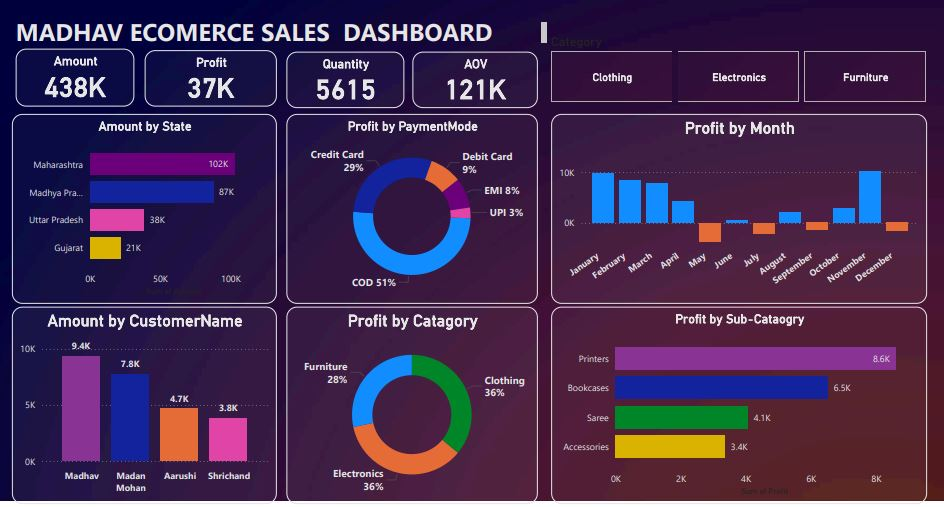

The dashboard page shown, as its layout file describes it:
{"tool":"powerbi","page":{"name":"Page 1","canvas":[1280,720],"ordinal":0},"visuals":[{"type":"columnChart","title":"Profit by Month","fields":{"Category":["Orders.Order Date.Variation.Date Hierarchy.Month"],"Y":["Details.Profit"]},"box":[739.1,195.5,500.6,253.6],"z":0},{"type":"donutChart","title":"Profit by Catagory","fields":{"Category":["Details.Category"],"Y":["Details.Profit"]},"box":[386.4,452.7,334.3,263.7],"z":1000},{"type":"donutChart","title":"Profit by PaymentMode","fields":{"Category":["Details.PaymentMode"],"Y":["Details.Profit"]},"box":[386.4,195.5,334.3,253.6],"z":2000},{"type":"clusteredBarChart","title":"Profit by Sub-Cataogry","fields":{"Category":["Details.Sub-Category"],"Y":["Details.Profit"]},"box":[739.1,452.7,500.6,263.7],"z":3000},{"type":"lineStackedColumnComboChart","title":"Amount by CustomerName","fields":{"Category":["Orders.CustomerName"],"Y":["Details.Amount"]},"box":[20.2,452.7,352.8,263.7],"z":4000},{"type":"clusteredBarChart","title":"Amount by State","fields":{"Category":["Orders.State"],"Y":["Details.Amount"]},"box":[20.2,195.5,352.8,253.6],"z":5000},{"type":"textbox","box":[20.2,63.8,445.1,48.7],"z":6000},{"type":"advancedSlicerVisual","fields":{"Values":["Details.Category"]},"box":[739.1,89,500.6,97.4],"z":7000},{"type":"card","title":"Amount","fields":{"Values":["Details.Amount"]},"box":[25.2,109.2,157.9,77.3],"z":8000},{"type":"card","title":"Profit","fields":{"Values":["Details.Profit"]},"box":[196.5,110.9,176.4,75.6],"z":9000},{"type":"card","title":"Quantity","fields":{"Values":["Details.Quantity"]},"box":[386.4,112.5,156.2,75.6],"z":10000},{"type":"card","title":"AOI","fields":{"Values":["Details.AOI"]},"box":[554.3,112.5,166.3,75.6],"z":11000}]}

Visuals, with their boxes in screenshot pixels (x1, y1, x2, y2):
"Profit by Month" columnChart: box=[549, 111, 922, 300]
"Profit by Catagory" donutChart: box=[286, 303, 535, 500]
"Profit by PaymentMode" donutChart: box=[286, 111, 535, 300]
"Profit by Sub-Cataogry" clusteredBarChart: box=[549, 303, 922, 500]
"Amount by CustomerName" lineStackedColumnComboChart: box=[13, 303, 276, 500]
"Amount by State" clusteredBarChart: box=[13, 111, 276, 300]
textbox: box=[13, 13, 344, 49]
advancedSlicerVisual - Details.Category: box=[549, 32, 922, 105]
"Amount" card: box=[16, 47, 134, 105]
"Profit" card: box=[144, 48, 276, 105]
"Quantity" card: box=[286, 49, 402, 106]
"AOI" card: box=[411, 49, 535, 106]
